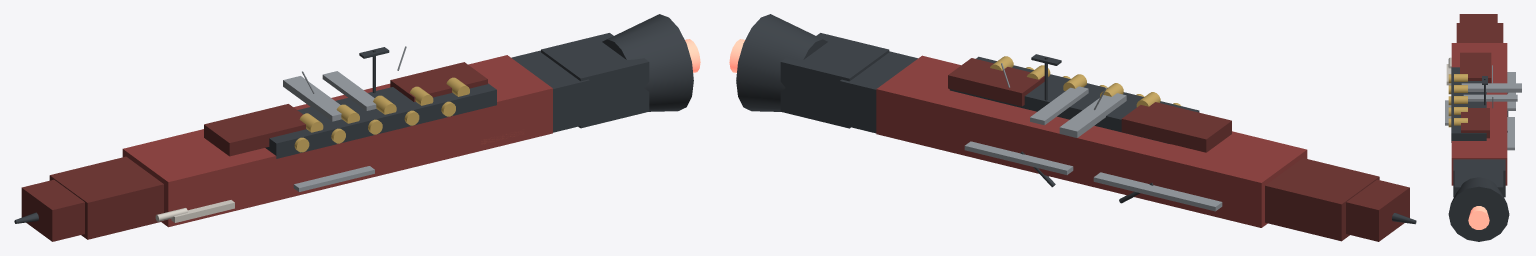
The model's file is pirate_v1.glb.
3 views of the same model, side by side, from view 1: azimuth 30°, elevation 25°; view 2: azimuth 150°, elevation 25°; view 3: azimuth 270°, elevation 25° (orthographic). The views are drawn at different scales.
Parts seen in each view (by area): view 1: pirate_v1; view 2: pirate_v1; view 3: pirate_v1.
Boxes of the visible parts, bbox=[...] form: pirate_v1: bbox=[14, 14, 700, 241]; pirate_v1: bbox=[729, 14, 1416, 241]; pirate_v1: bbox=[1445, 14, 1521, 241].
Size of the model in its own units: 19.17 by 3.38 by 3.08.
